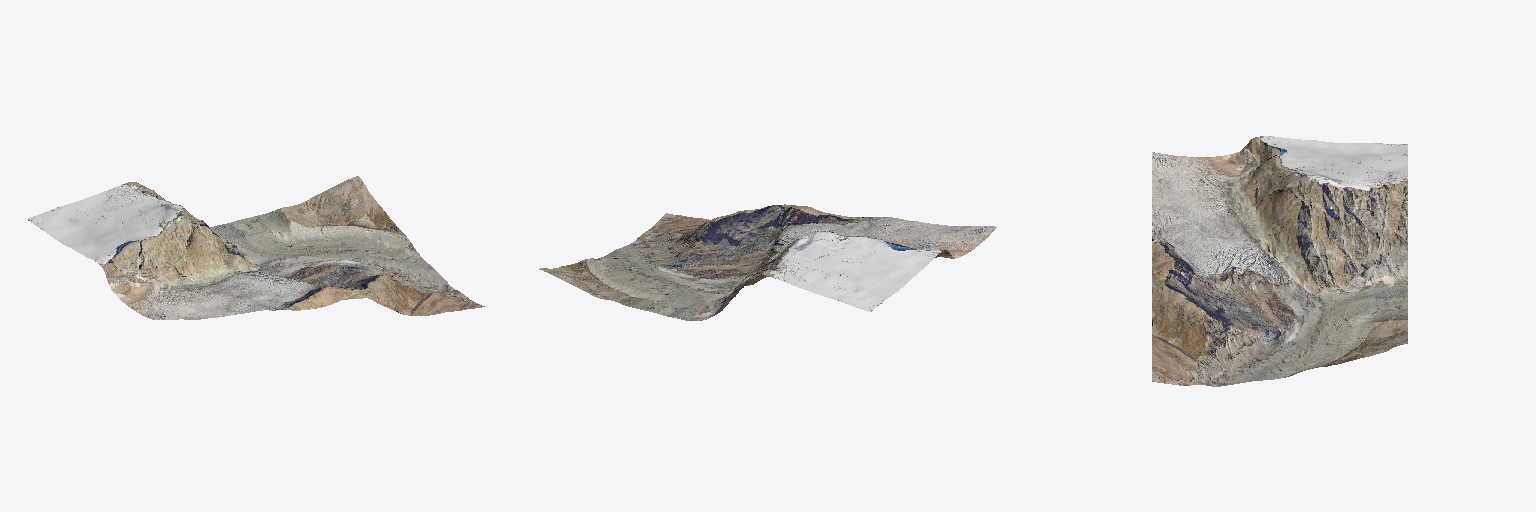
3 renders of one model, left to right at view 1: azimuth 30°, elevation 25°; view 2: azimuth 150°, elevation 25°; view 3: azimuth 270°, elevation 25°, orthographic.
Visible parts, largest first — view 1: EXPORT_GOOGLE_SAT_WM.020; view 2: EXPORT_GOOGLE_SAT_WM.020; view 3: EXPORT_GOOGLE_SAT_WM.020.
Part boxes in pixels (x1,y1,x2,y2): EXPORT_GOOGLE_SAT_WM.020: (27,176,484,319); EXPORT_GOOGLE_SAT_WM.020: (539,204,996,320); EXPORT_GOOGLE_SAT_WM.020: (1152,136,1407,386).
Size of the model in its own units: 4562 by 1309 by 3041.
1 materials, 1 textured.